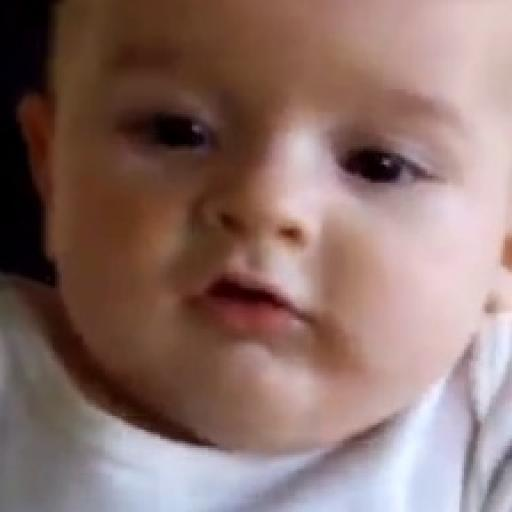Autism: (35, 5, 512, 466)
